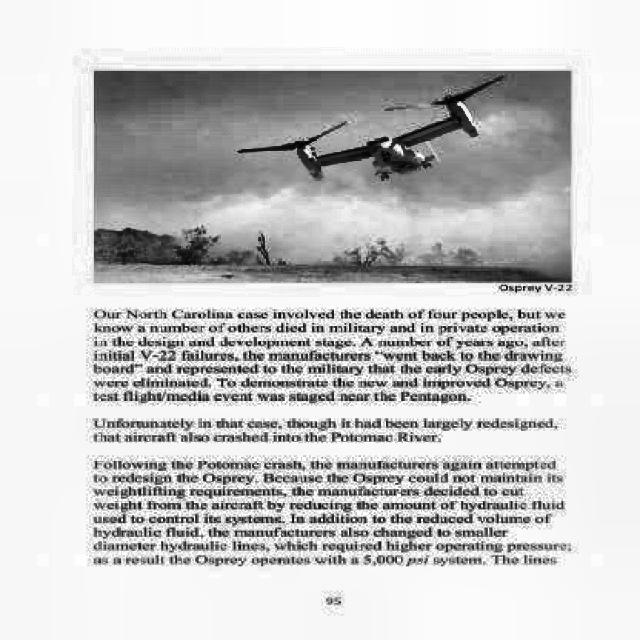V22: (237, 74, 506, 180)
